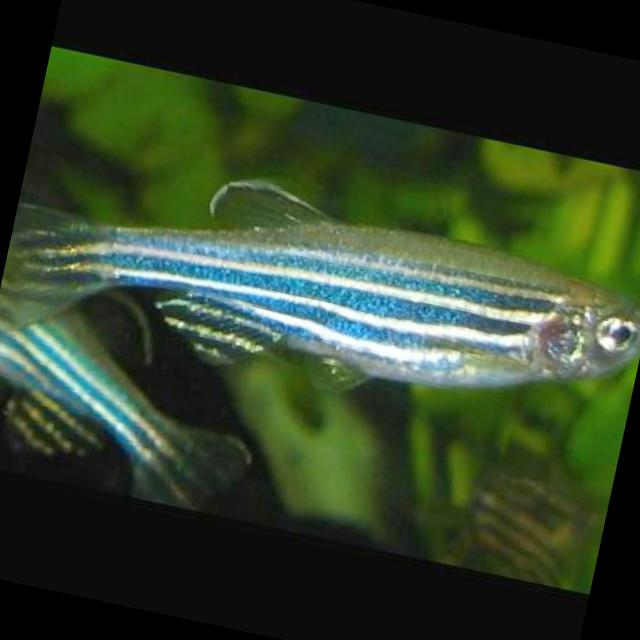ZebraFish: (0, 118, 640, 459)
